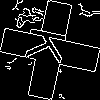K: (25, 25, 77, 67)
